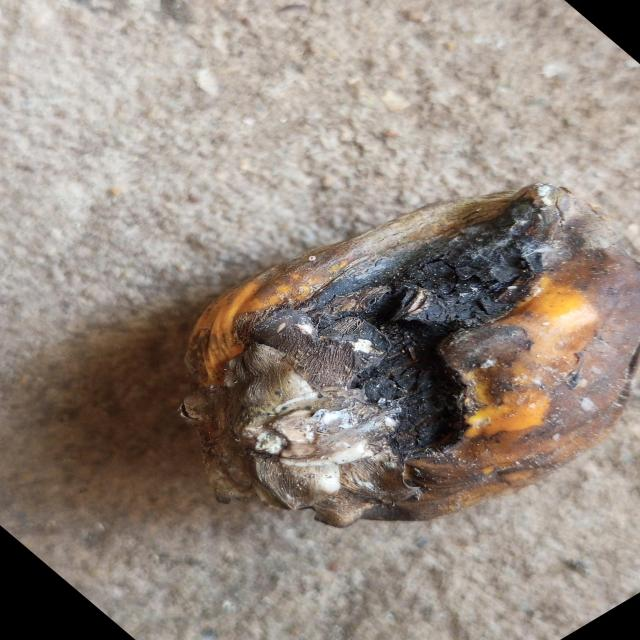damaged: (175, 187, 640, 530)
